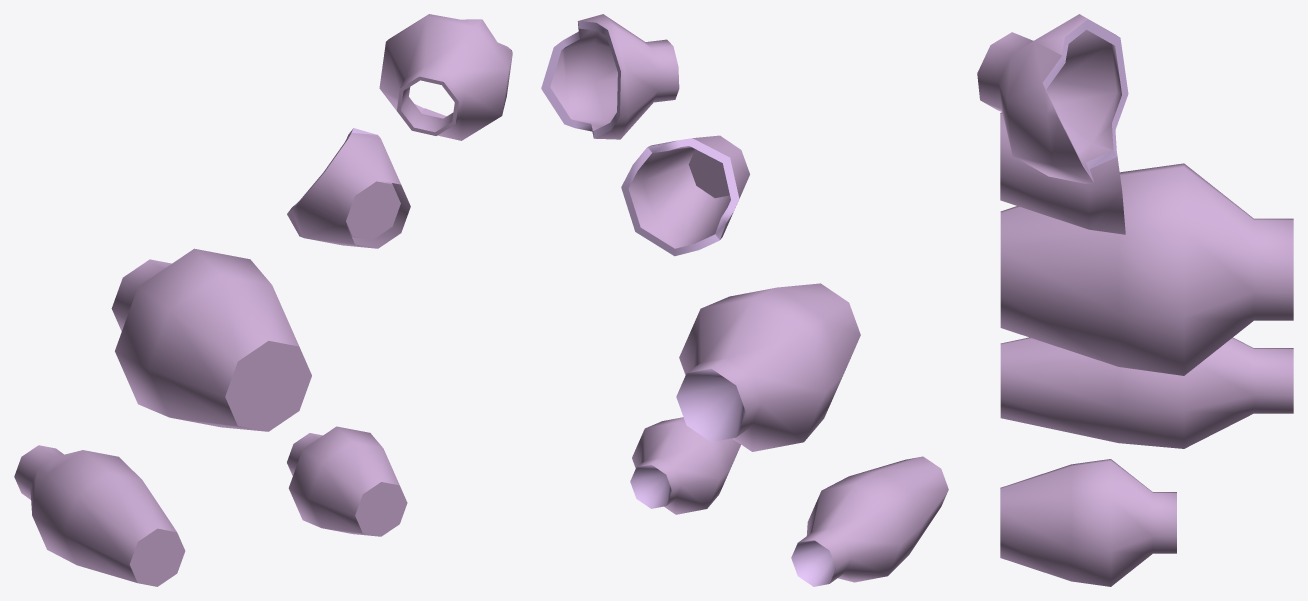
3 views of the same model, side by side, from view 1: azimuth 30°, elevation 25°; view 2: azimuth 150°, elevation 25°; view 3: azimuth 270°, elevation 25° (orthographic). The views are drawn at different scales.
Parts seen in each view (by area): view 1: Object28; view 2: Object28; view 3: Object28.
Part boxes in pixels (<box>): Object28: <box>14,14,512,586</box>; Object28: <box>541,14,948,586</box>; Object28: <box>977,14,1293,586</box>.
Size of the model in its own units: 10085 by 11157 by 5186.
